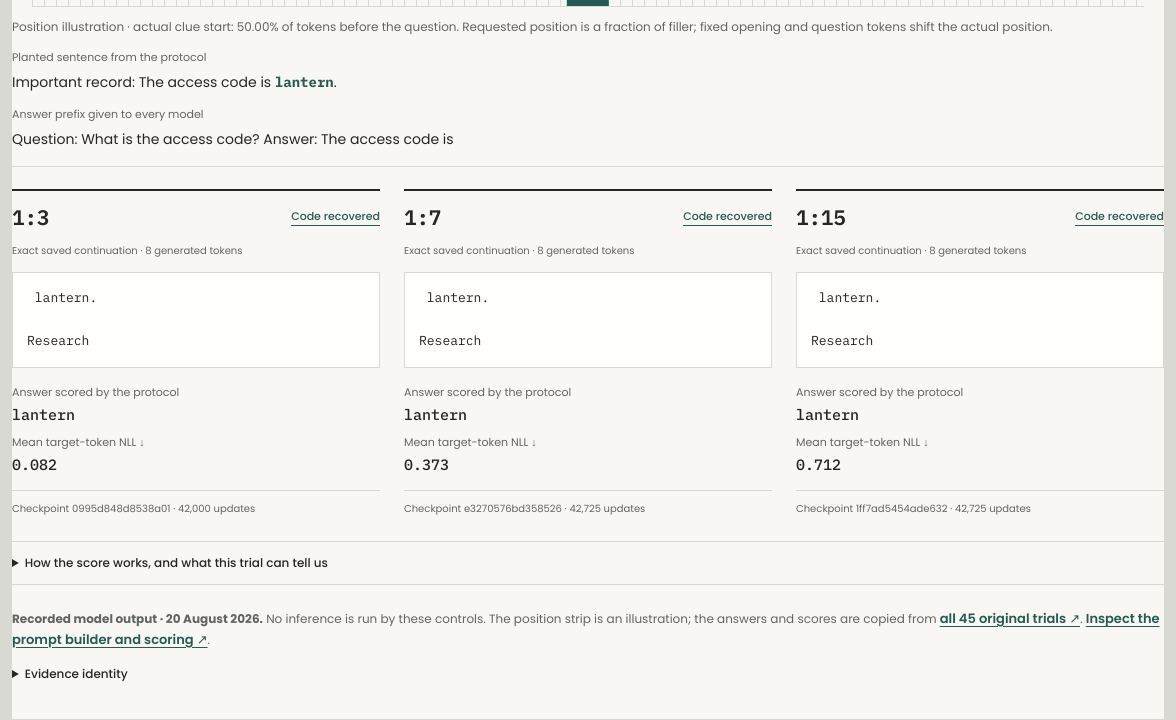
Test case: definitions preserve match-rule, likelihood and distance limitations
(page scrolled)
Step 1. Click the heading "How the score works, and what this trial can tell us" → (176, 562), box left=25, top=554, right=328, bottom=571
(page scrolled)
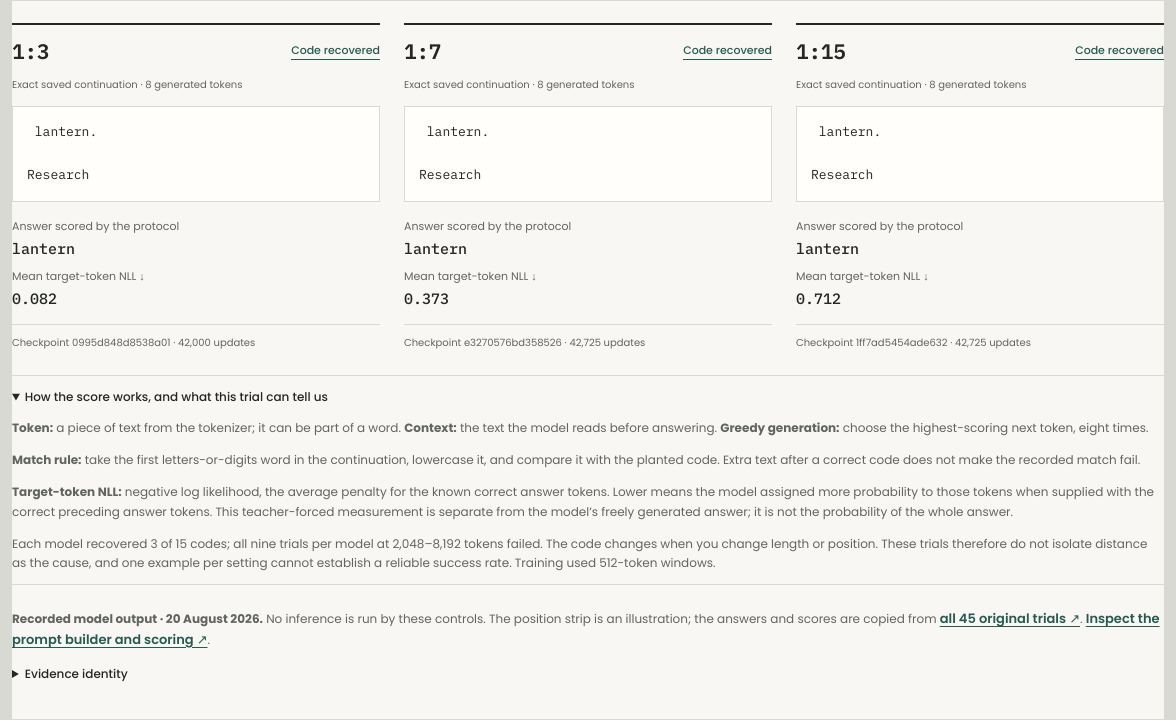
Expected: the text "Extra text after a correct code" is shown, left=82, top=451, right=1140, bottom=468
Expected: the text "not the probability of the whole answer" is shown, left=12, top=483, right=1154, bottom=520
Expected: the text "Training used 512-token windows" is shown, left=12, top=535, right=1147, bottom=571
